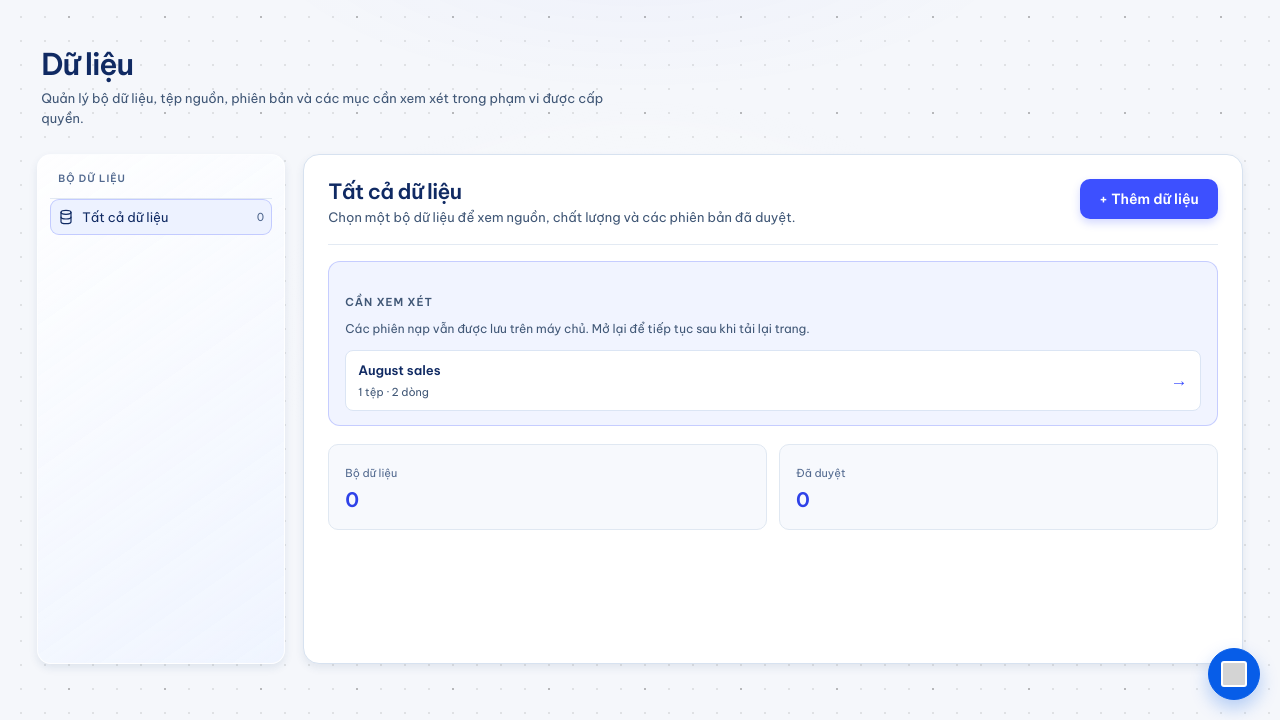
[WEB-020][WEB-021][WEB-024] data route loading states › re-opens a server review after reload instead of losing the import session
Click the button "August sales 1 tệp · 2 dòng →".
click(399, 370)  # box [345,350,1201,412]
(page scrolled)
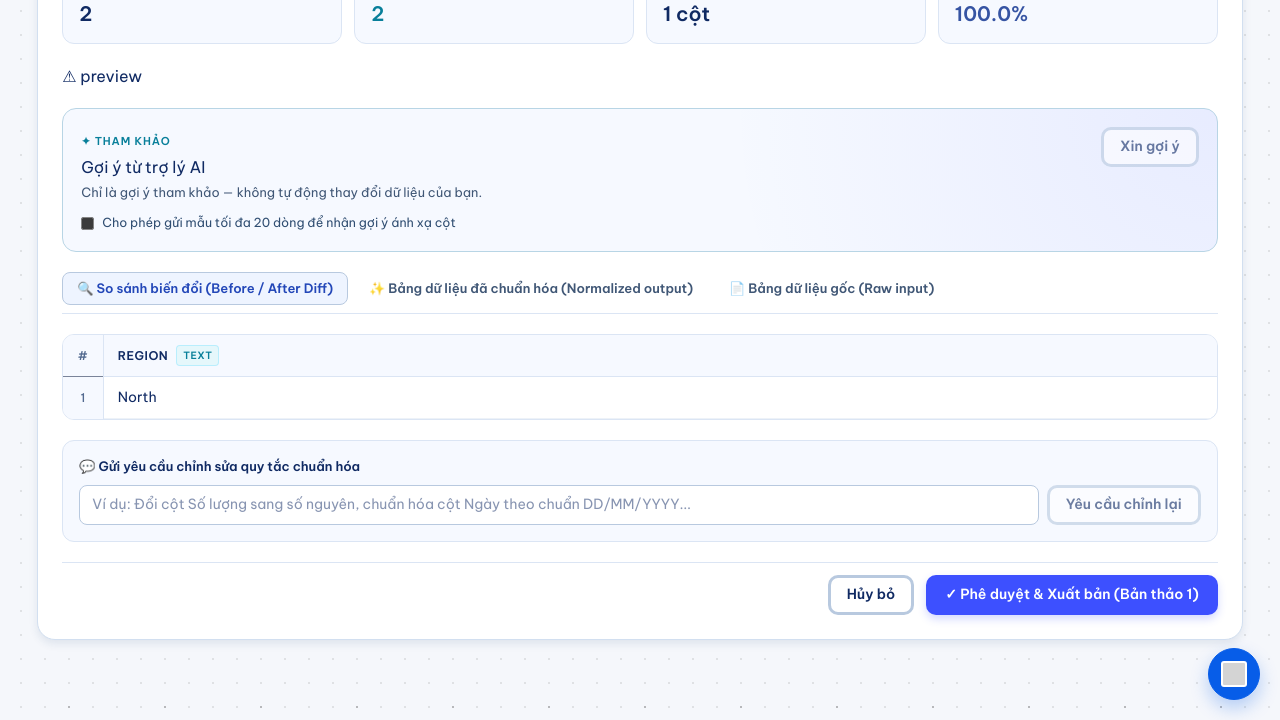
expect the text "North" is shown: met, box [118,387,157,408]
Type "Viết hoa cột region" into the field with placeholder "Ví dụ: Đổi cột".
click(559, 505); type("Viết hoa cột region")  # box [79,485,1039,525]
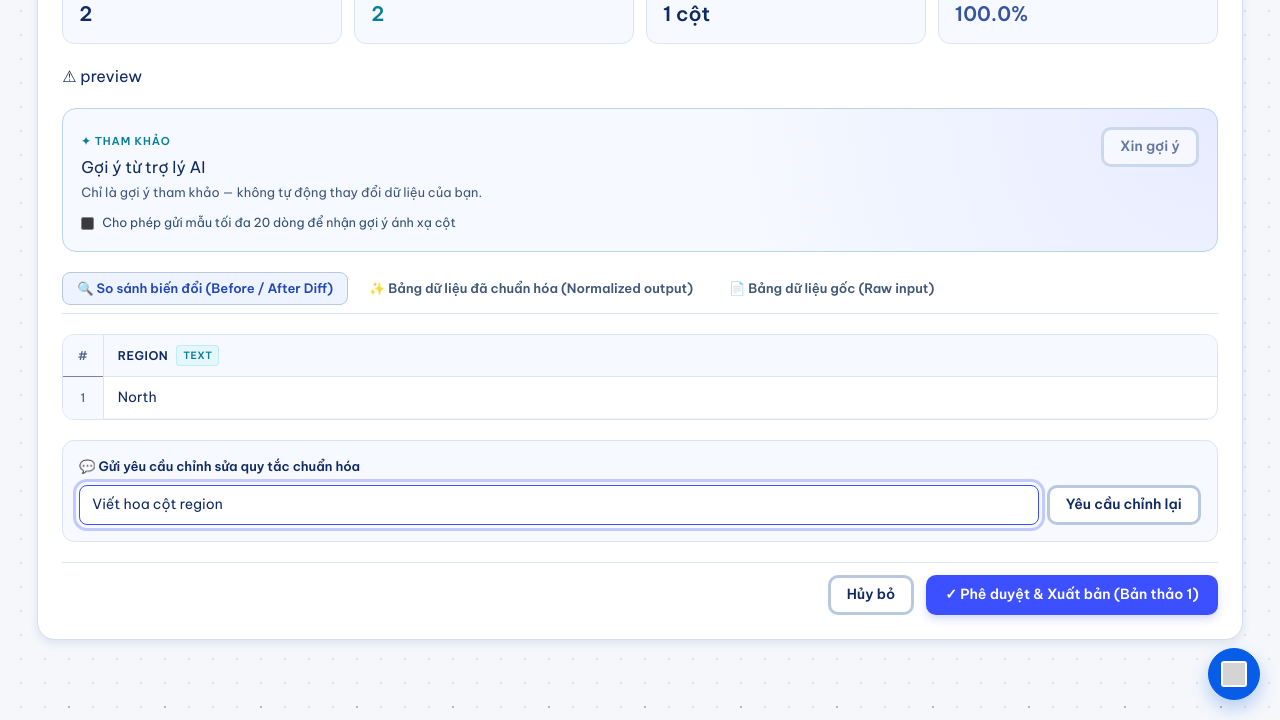
Click the button "Yêu cầu chỉnh lại".
click(1124, 505)  # box [1047,485,1201,525]
(page scrolled)
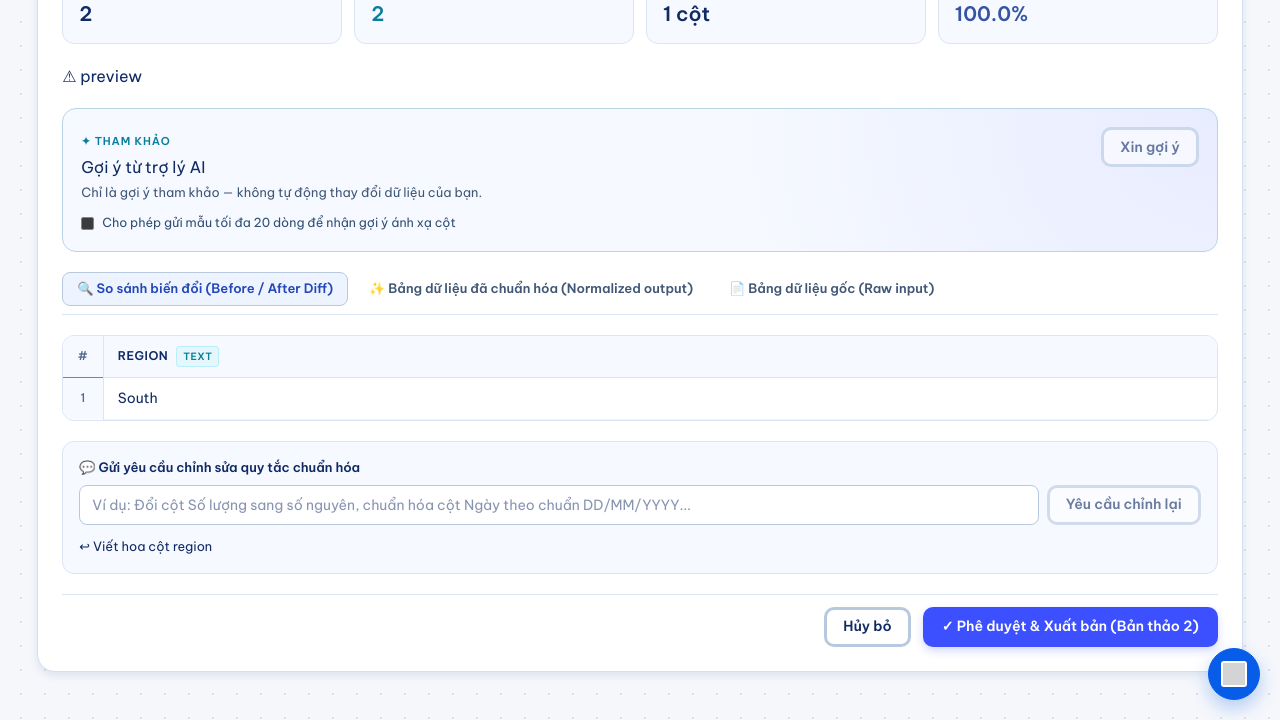
expect the text "South" is shown: met, box [118,388,158,409]
